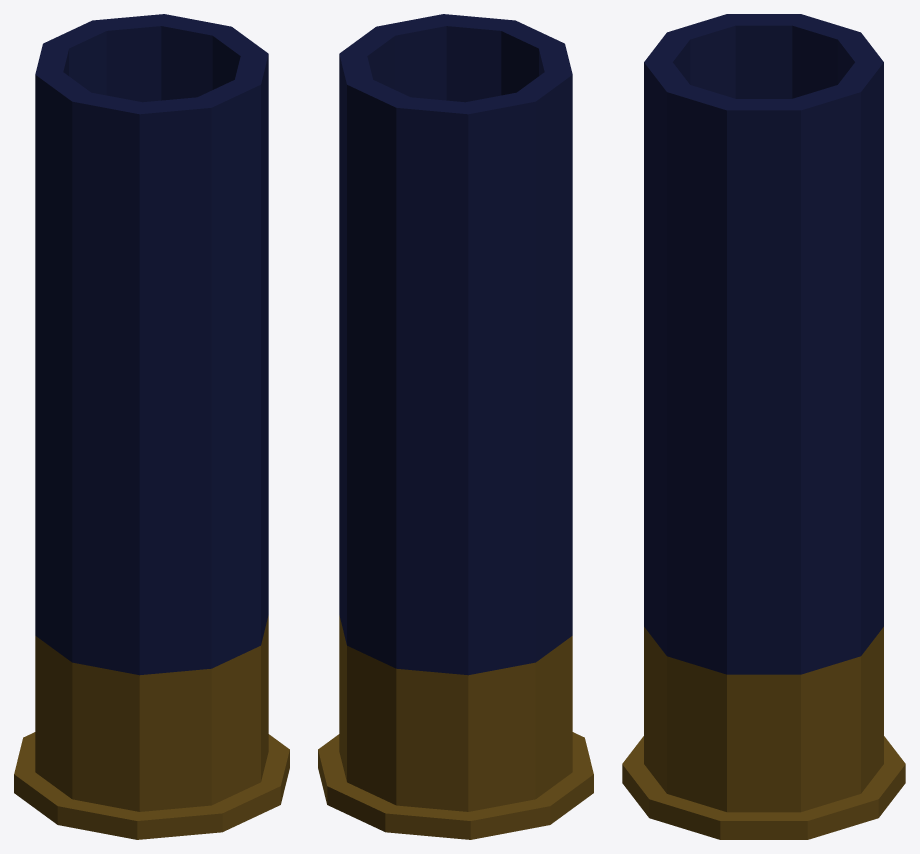
Rendered from Shotgun Empty Slug.glb.
3 renders of one model, left to right at view 1: azimuth 30°, elevation 25°; view 2: azimuth 150°, elevation 25°; view 3: azimuth 270°, elevation 25°, orthographic.
Visible parts, largest first — view 1: Shotgun Empty Slug; view 2: Shotgun Empty Slug; view 3: Shotgun Empty Slug.
Boxes of the visible parts, <box> form: Shotgun Empty Slug: <box>14,14,289,839</box>; Shotgun Empty Slug: <box>318,14,593,839</box>; Shotgun Empty Slug: <box>622,14,905,839</box>.
Size of the model in its own units: 2.84 by 8.36 by 2.98.
